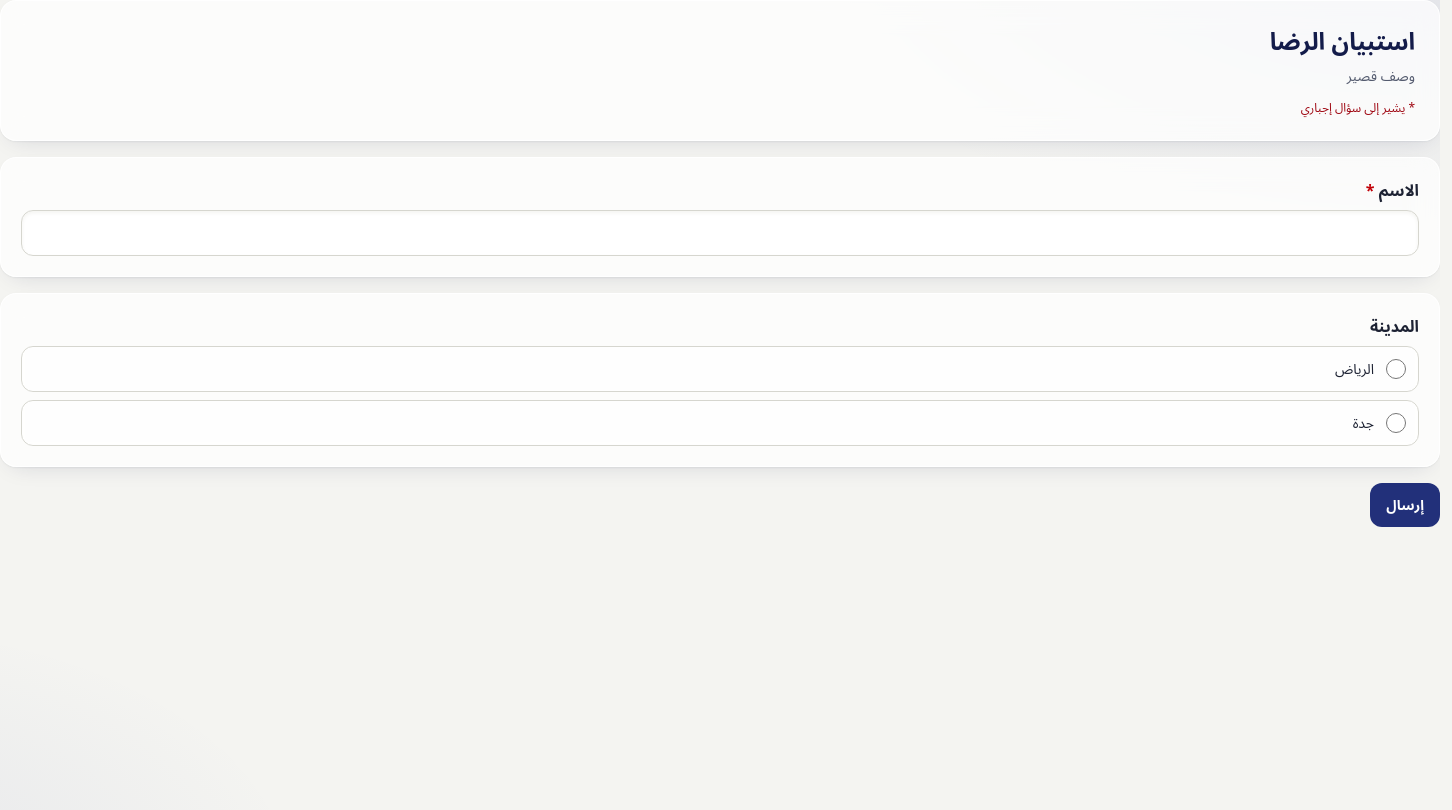
Test: keeps answers when intake closes during filling
Type "سارة" into the field labelled "الاسم *" at [720, 233], box [21,210,1419,256]
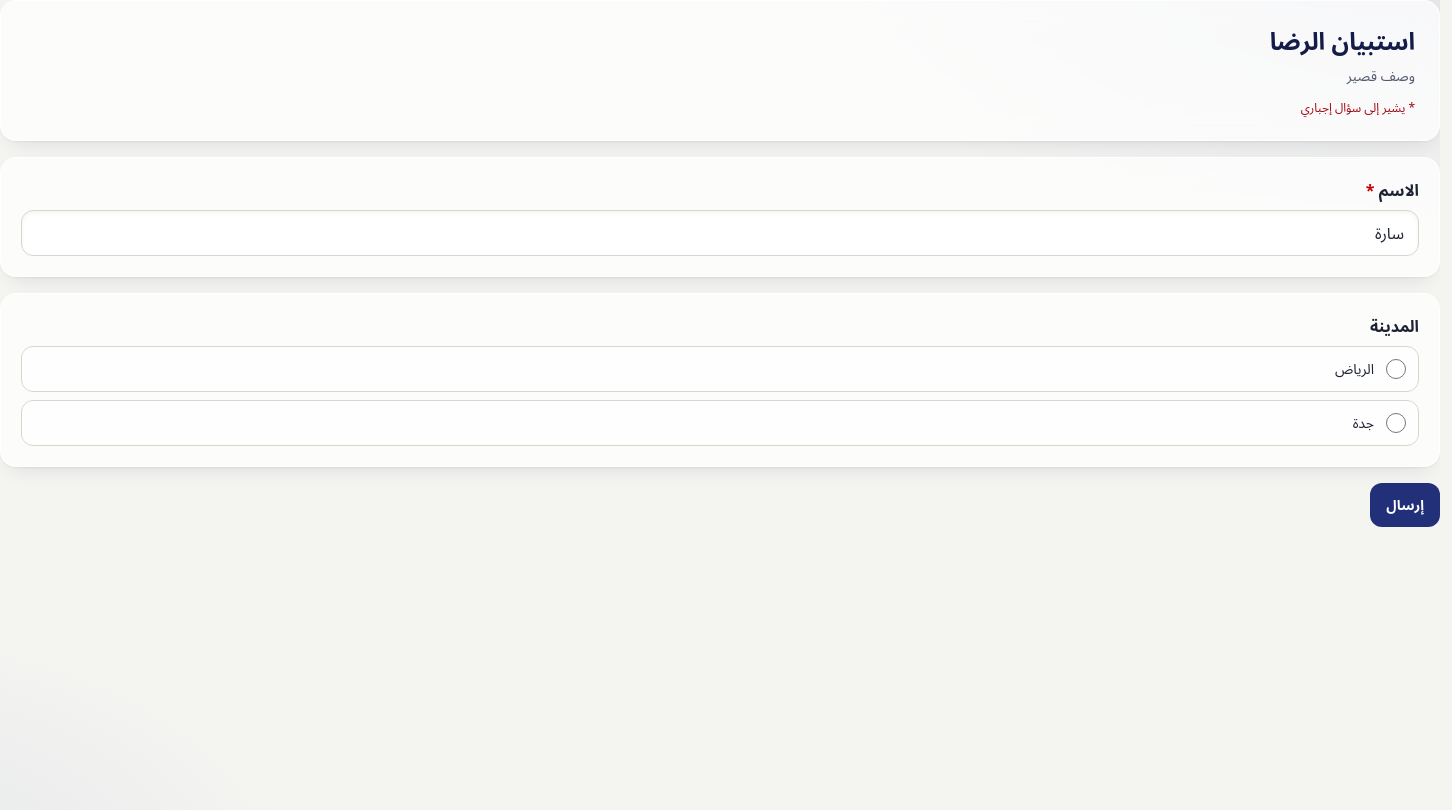
Click the button "إرسال" at [1405, 505], box [1370,483,1440,527]
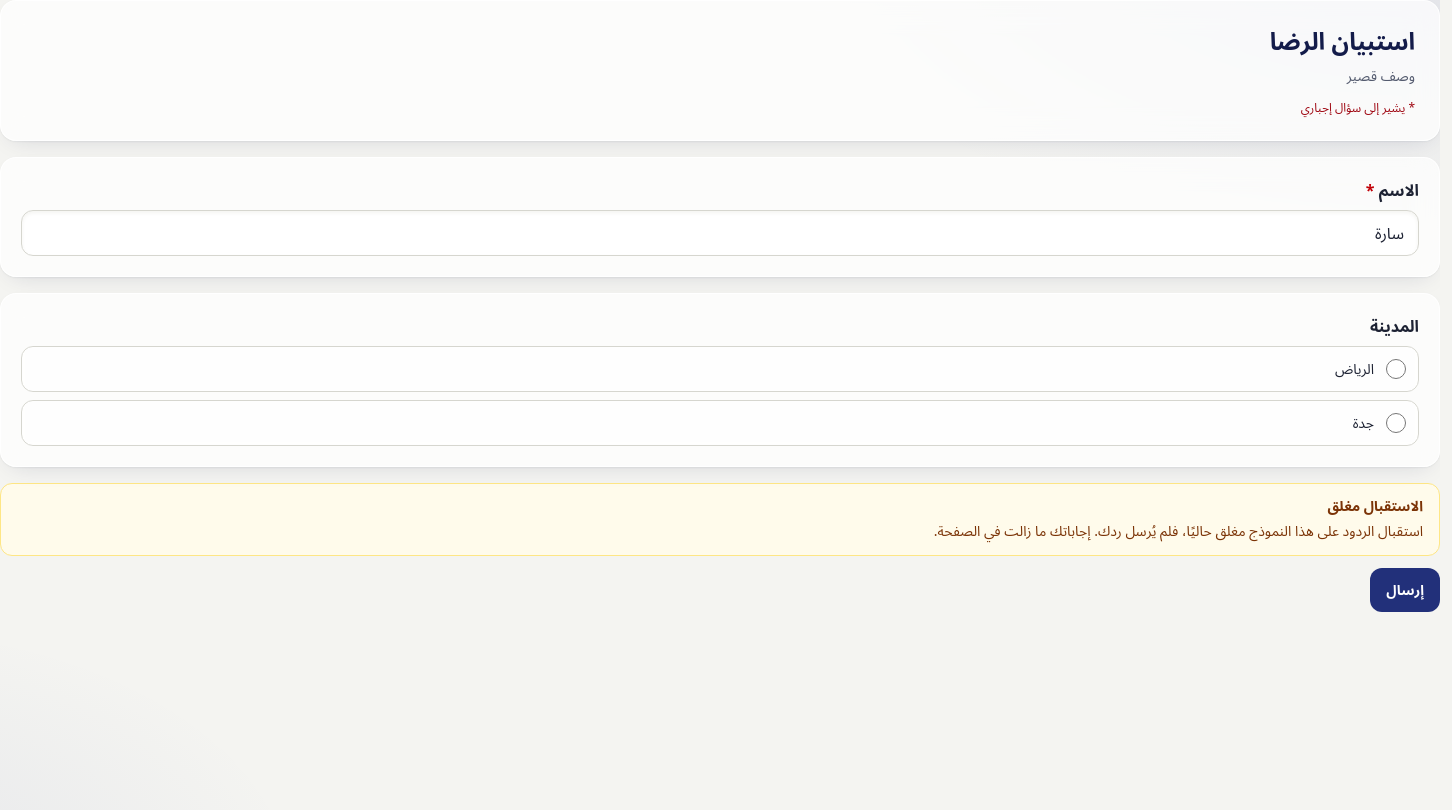
Result: the text "الاستقبال مغلق" is shown at [1327,496,1423,515]
